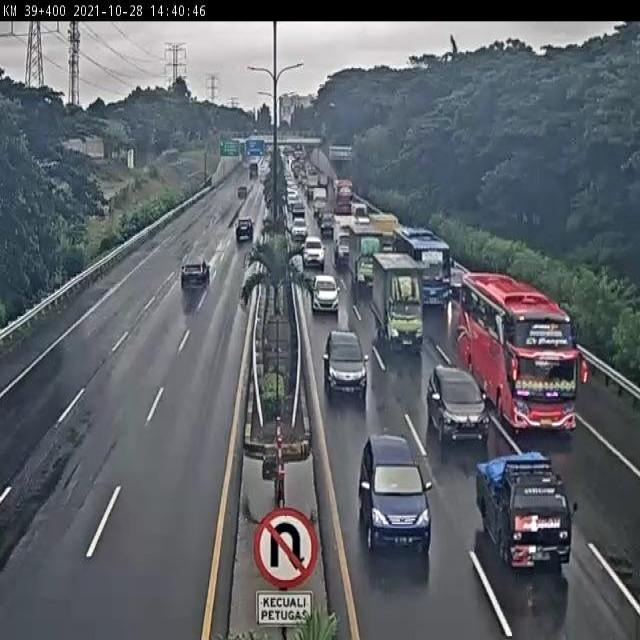bus-l-: (453, 268, 579, 435), (389, 221, 446, 304)
car: (477, 454, 576, 570), (357, 429, 431, 552), (426, 366, 489, 446), (321, 328, 366, 397), (312, 273, 340, 315)
mid truck: (179, 251, 210, 285)
truck-m-: (371, 252, 423, 345), (348, 224, 384, 293)
